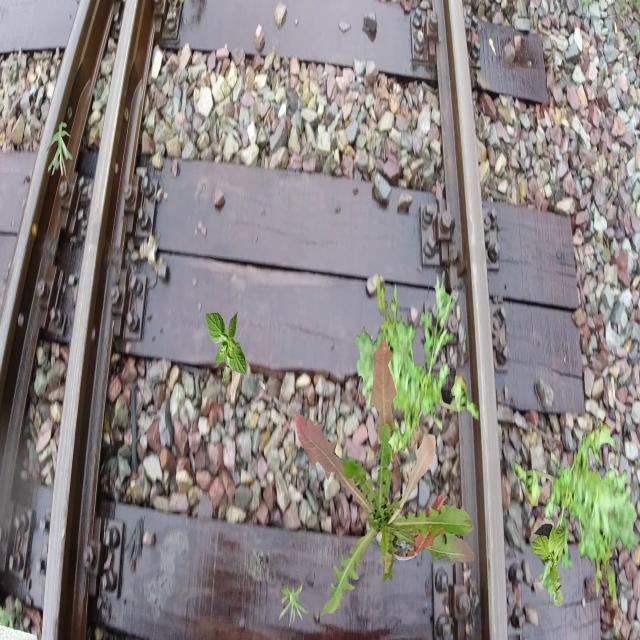Plant: (296, 338, 476, 616), (354, 271, 479, 467), (514, 416, 639, 612), (530, 523, 566, 606), (205, 310, 246, 381), (279, 582, 312, 628), (46, 121, 72, 178)
